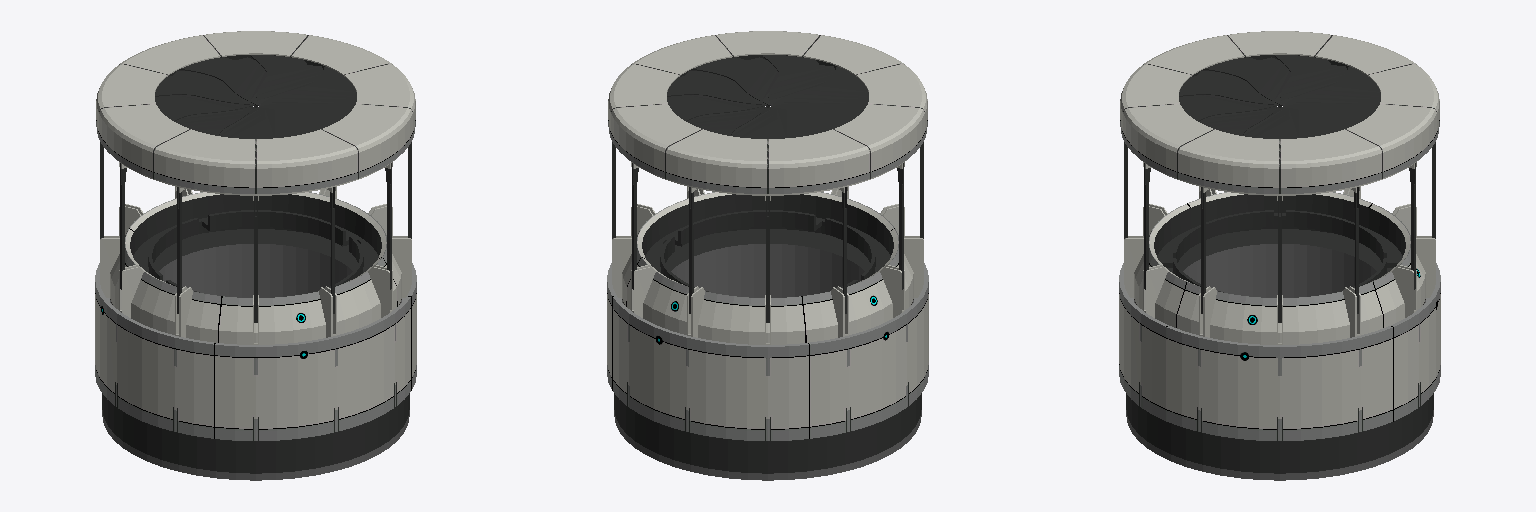
The picture shows the model from 3 angles: view 1: azimuth 30°, elevation 25°; view 2: azimuth 150°, elevation 25°; view 3: azimuth 270°, elevation 25°; orthographic projection.
Parts seen in each view (by area): view 1: item_dropper_model.001; view 2: item_dropper_model.001; view 3: item_dropper_model.001.
Part boxes in pixels (left/top/right/bottom): item_dropper_model.001: left=95, top=31, right=416, bottom=480; item_dropper_model.001: left=607, top=31, right=928, bottom=480; item_dropper_model.001: left=1119, top=31, right=1440, bottom=480.
Bounding box in the file's own units: 1.19 × 1.3 × 1.19.
2 materials, 2 textured.